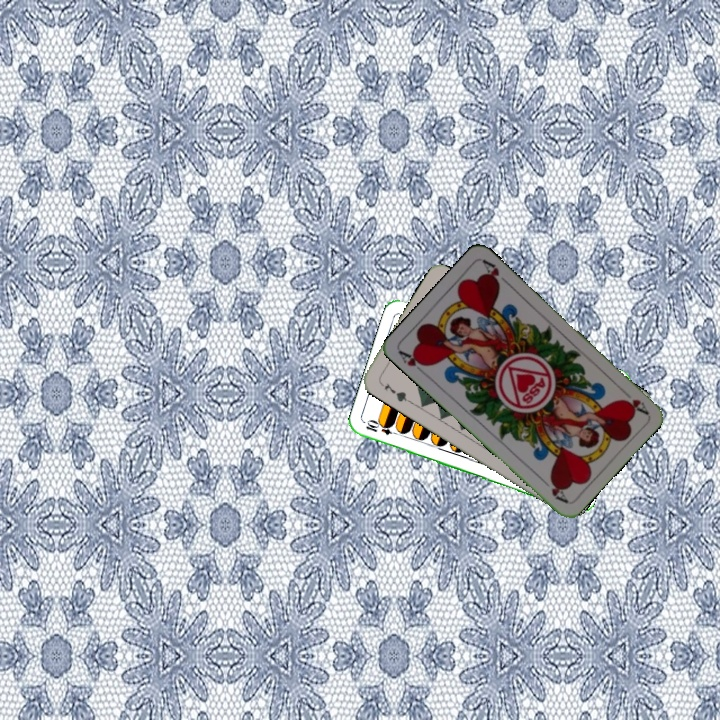E10: (362, 417, 402, 438)
G7: (380, 379, 412, 405)
HA: (395, 347, 431, 378), (617, 386, 650, 417)
